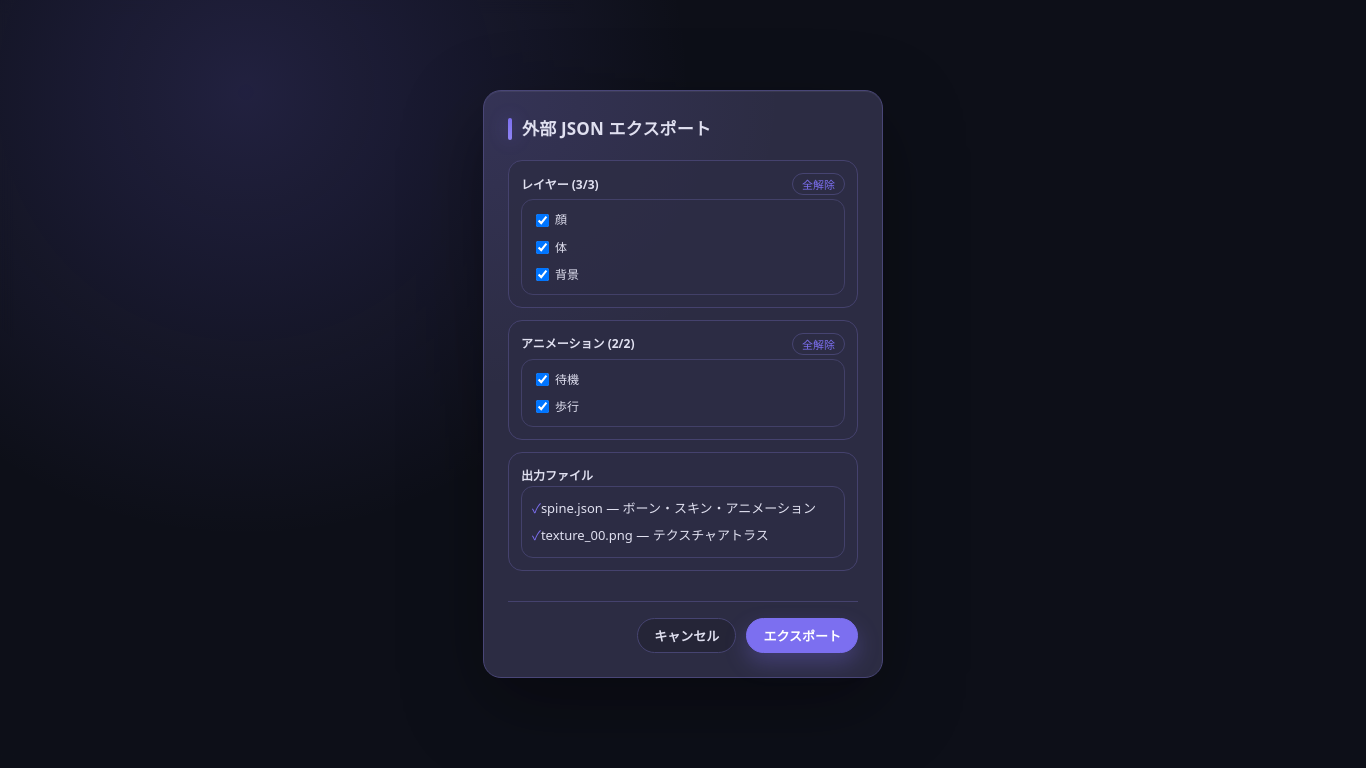
Scenario: ExportDialog — レイヤー選択 › 全解除後に「全選択」で全レイヤーが復活する
The image size is (1366, 768).
Click the button "全解除" in the row of "レイヤー": click(818, 184) [792,173,845,195]
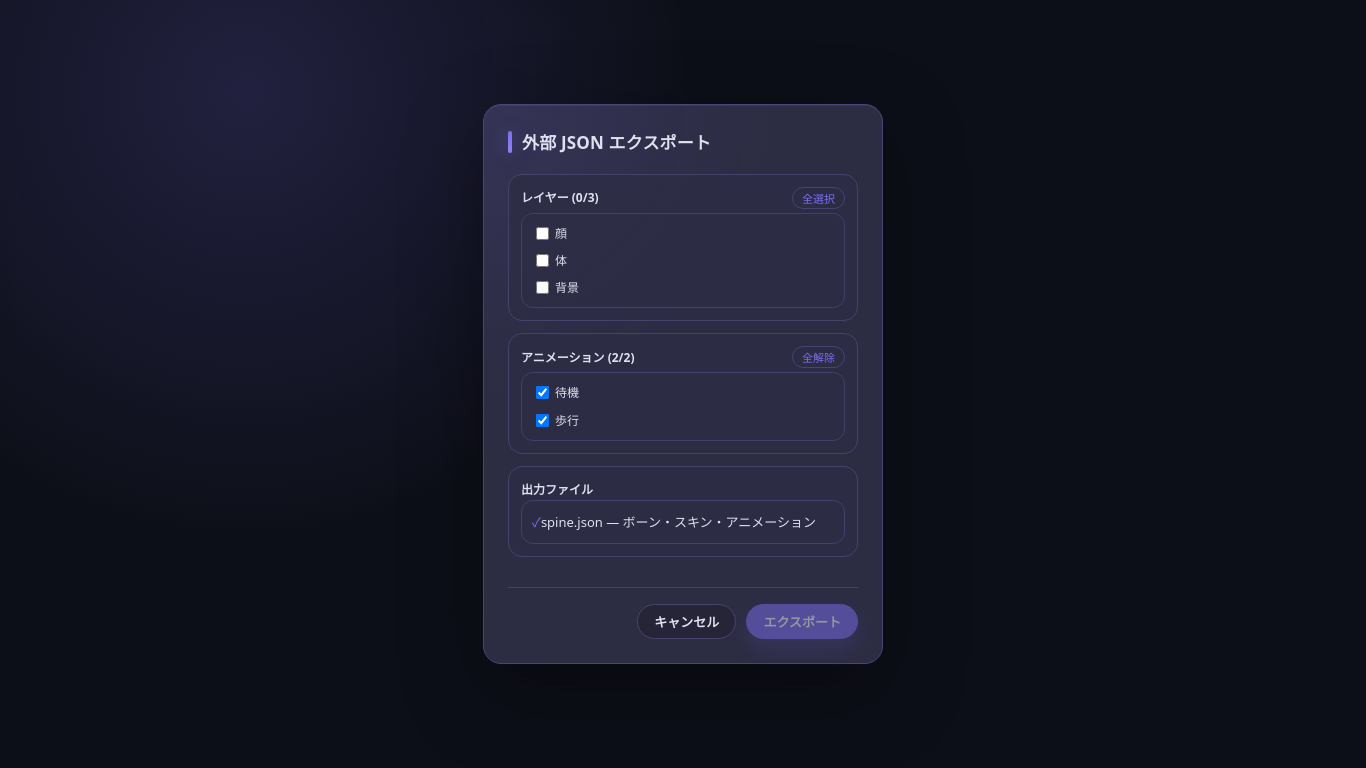
Click the button "全選択": click(818, 198) [792,187,845,209]
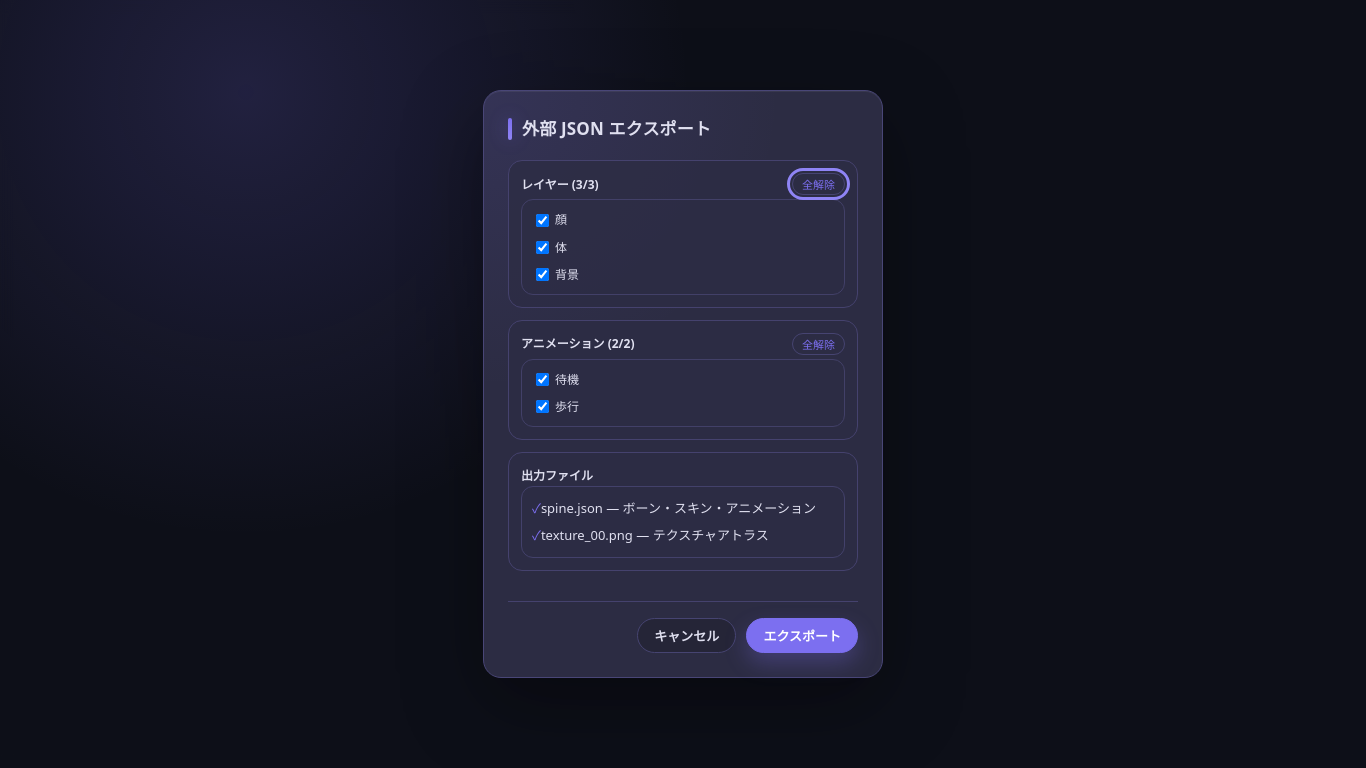
Now the text "レイヤー (3/3)" is shown, box [521,175,599,194]
